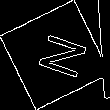N_W: (25, 28, 85, 82)
